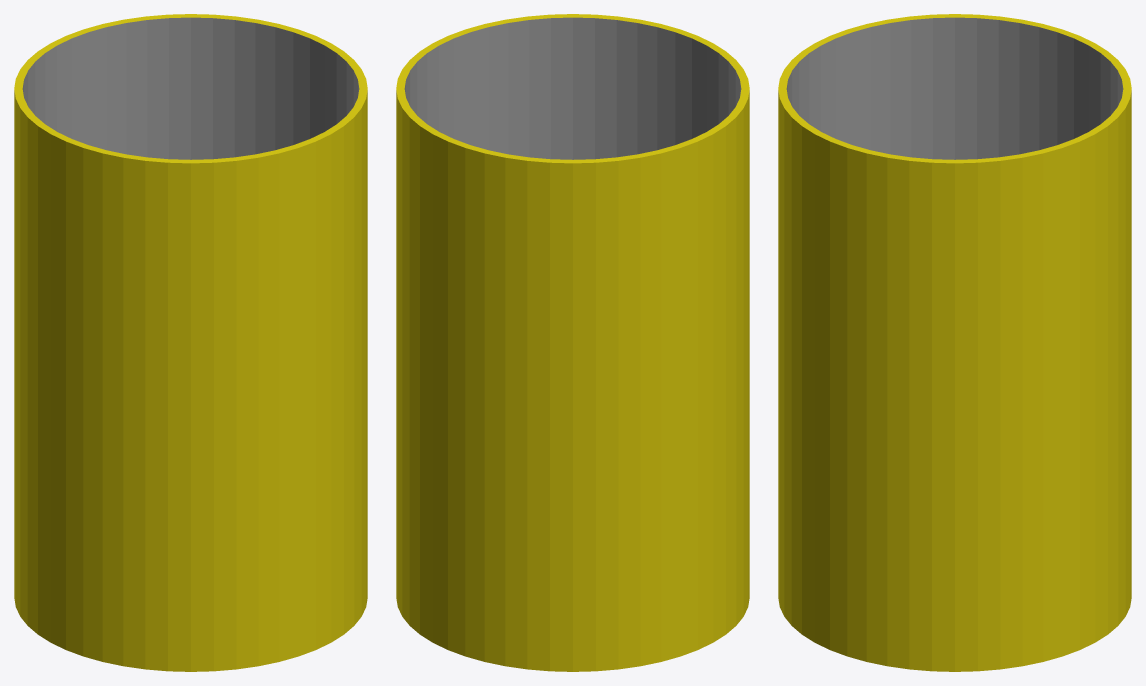
The model's file is mod_lun_jaune.dae.
3 renders of one model, left to right at view 1: azimuth 30°, elevation 25°; view 2: azimuth 150°, elevation 25°; view 3: azimuth 270°, elevation 25°, orthographic.
Visible parts, largest first — view 1: Mod_Lun_52; view 2: Mod_Lun_52; view 3: Mod_Lun_52.
Boxes of the visible parts, left/top/right/bottom form: Mod_Lun_52: left=14, top=14, right=367, bottom=671; Mod_Lun_52: left=396, top=14, right=749, bottom=671; Mod_Lun_52: left=778, top=14, right=1131, bottom=671.
Size of the model in its own units: 0.3366 by 0.3366 by 0.5342.
